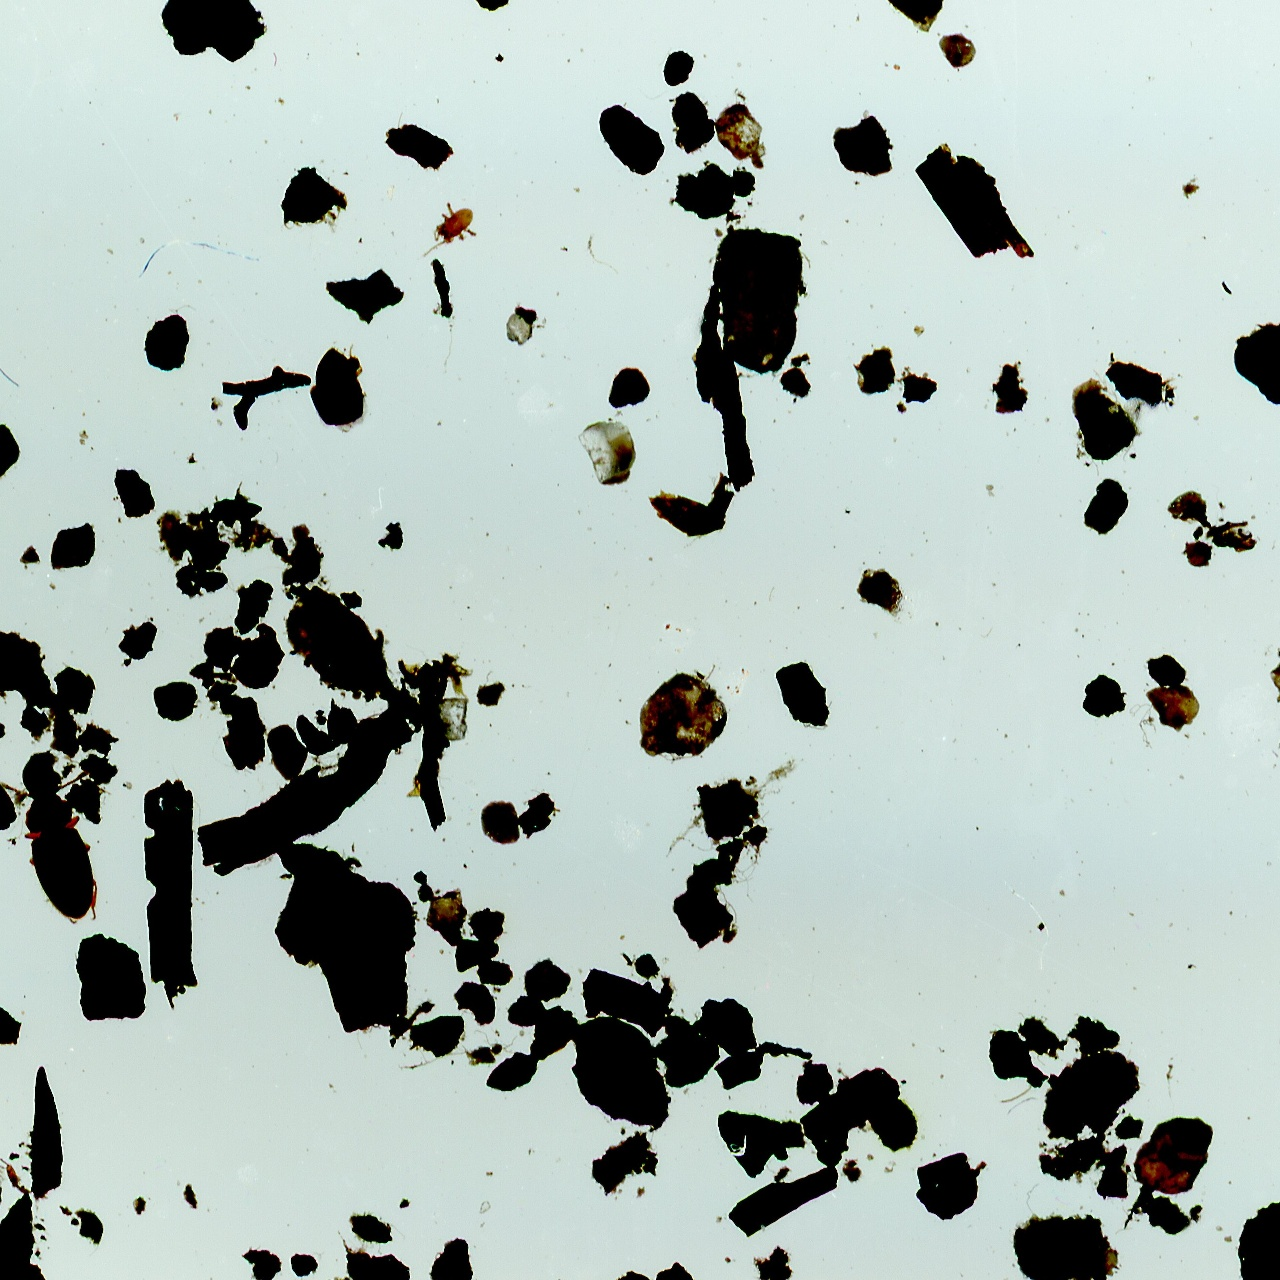arthropod: (0, 770, 120, 930), (418, 199, 479, 258)
